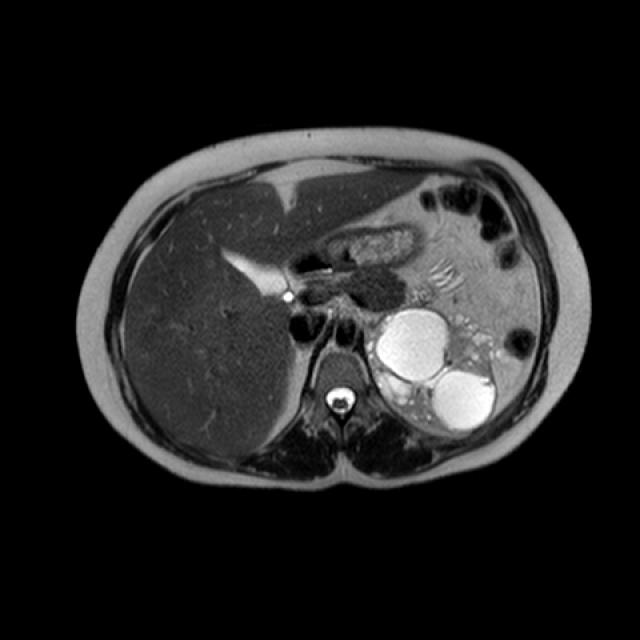sol: (367, 297, 505, 436)
